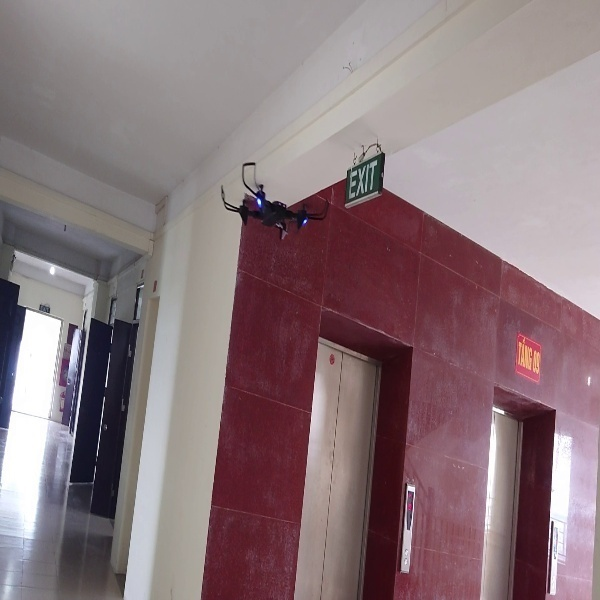drone: (217, 159, 333, 245)
